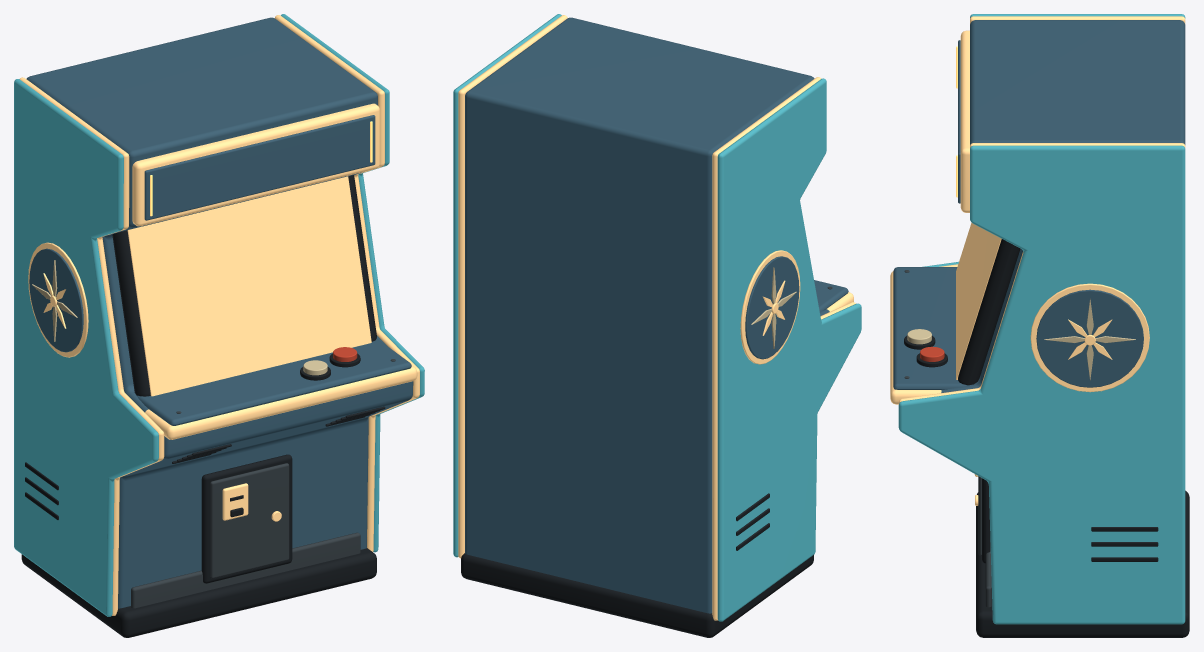
File: cabinet.glb
3 renders of one model, left to right at view 1: azimuth 30°, elevation 25°; view 2: azimuth 150°, elevation 25°; view 3: azimuth 270°, elevation 25°, orthographic. The views are drawn at different scales.
Visible parts, largest first — view 1: Midnight enamel, Satin brass, Petrol blue side panels, Graphite rubber, Coin door steel, Ivory buttons; view 2: Midnight enamel, Petrol blue side panels, Satin brass, Graphite rubber; view 3: Petrol blue side panels, Midnight enamel, Satin brass, Graphite rubber, Ivory buttons, Coin door steel.
Boxes of the visible parts, x1,y1,x2,y2 form: Midnight enamel: [26, 17, 413, 608]; Satin brass: [19, 15, 419, 615]; Petrol blue side panels: [14, 14, 424, 616]; Graphite rubber: [21, 175, 385, 637]; Coin door steel: [131, 359, 395, 608]; Ivory buttons: [32, 260, 327, 375]; Midnight enamel: [465, 17, 848, 613]; Petrol blue side panels: [453, 14, 861, 621]; Satin brass: [458, 15, 855, 620]; Graphite rubber: [461, 493, 813, 637]; Petrol blue side panels: [898, 14, 1185, 624]; Midnight enamel: [893, 20, 1185, 392]; Satin brass: [890, 16, 1185, 505]; Graphite rubber: [904, 239, 1189, 637]; Ivory buttons: [907, 298, 1135, 380]; Coin door steel: [904, 270, 991, 607].
Bounding box in the file's own units: 1.6 × 2.62 × 1.43.
